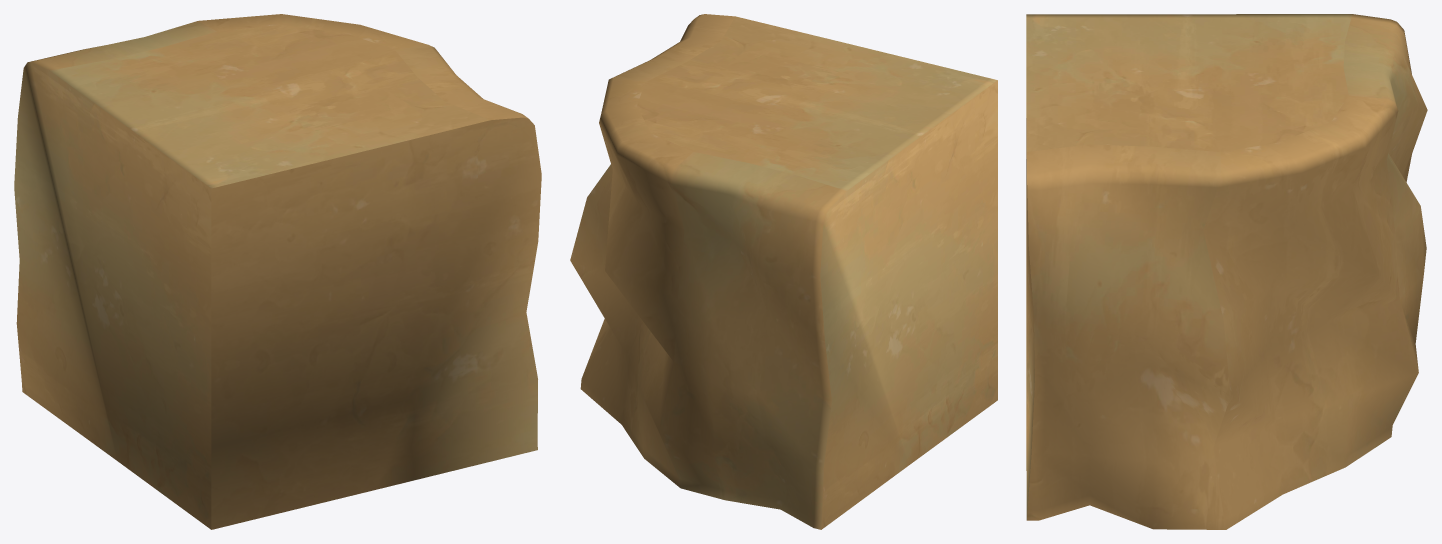
The model's file is StoneEdgeTop.fbx.
3 renders of one model, left to right at view 1: azimuth 30°, elevation 25°; view 2: azimuth 150°, elevation 25°; view 3: azimuth 270°, elevation 25°, orthographic. The views are drawn at different scales.
Parts seen in each view (by area): view 1: StoneEdgeTop; view 2: StoneEdgeTop; view 3: StoneEdgeTop.
Boxes of the visible parts, x1,y1,x2,y2 form: StoneEdgeTop: (14,14,541,529); StoneEdgeTop: (570,14,997,529); StoneEdgeTop: (1026,14,1427,529).
Size of the model in its own units: 222 by 200 by 211.
